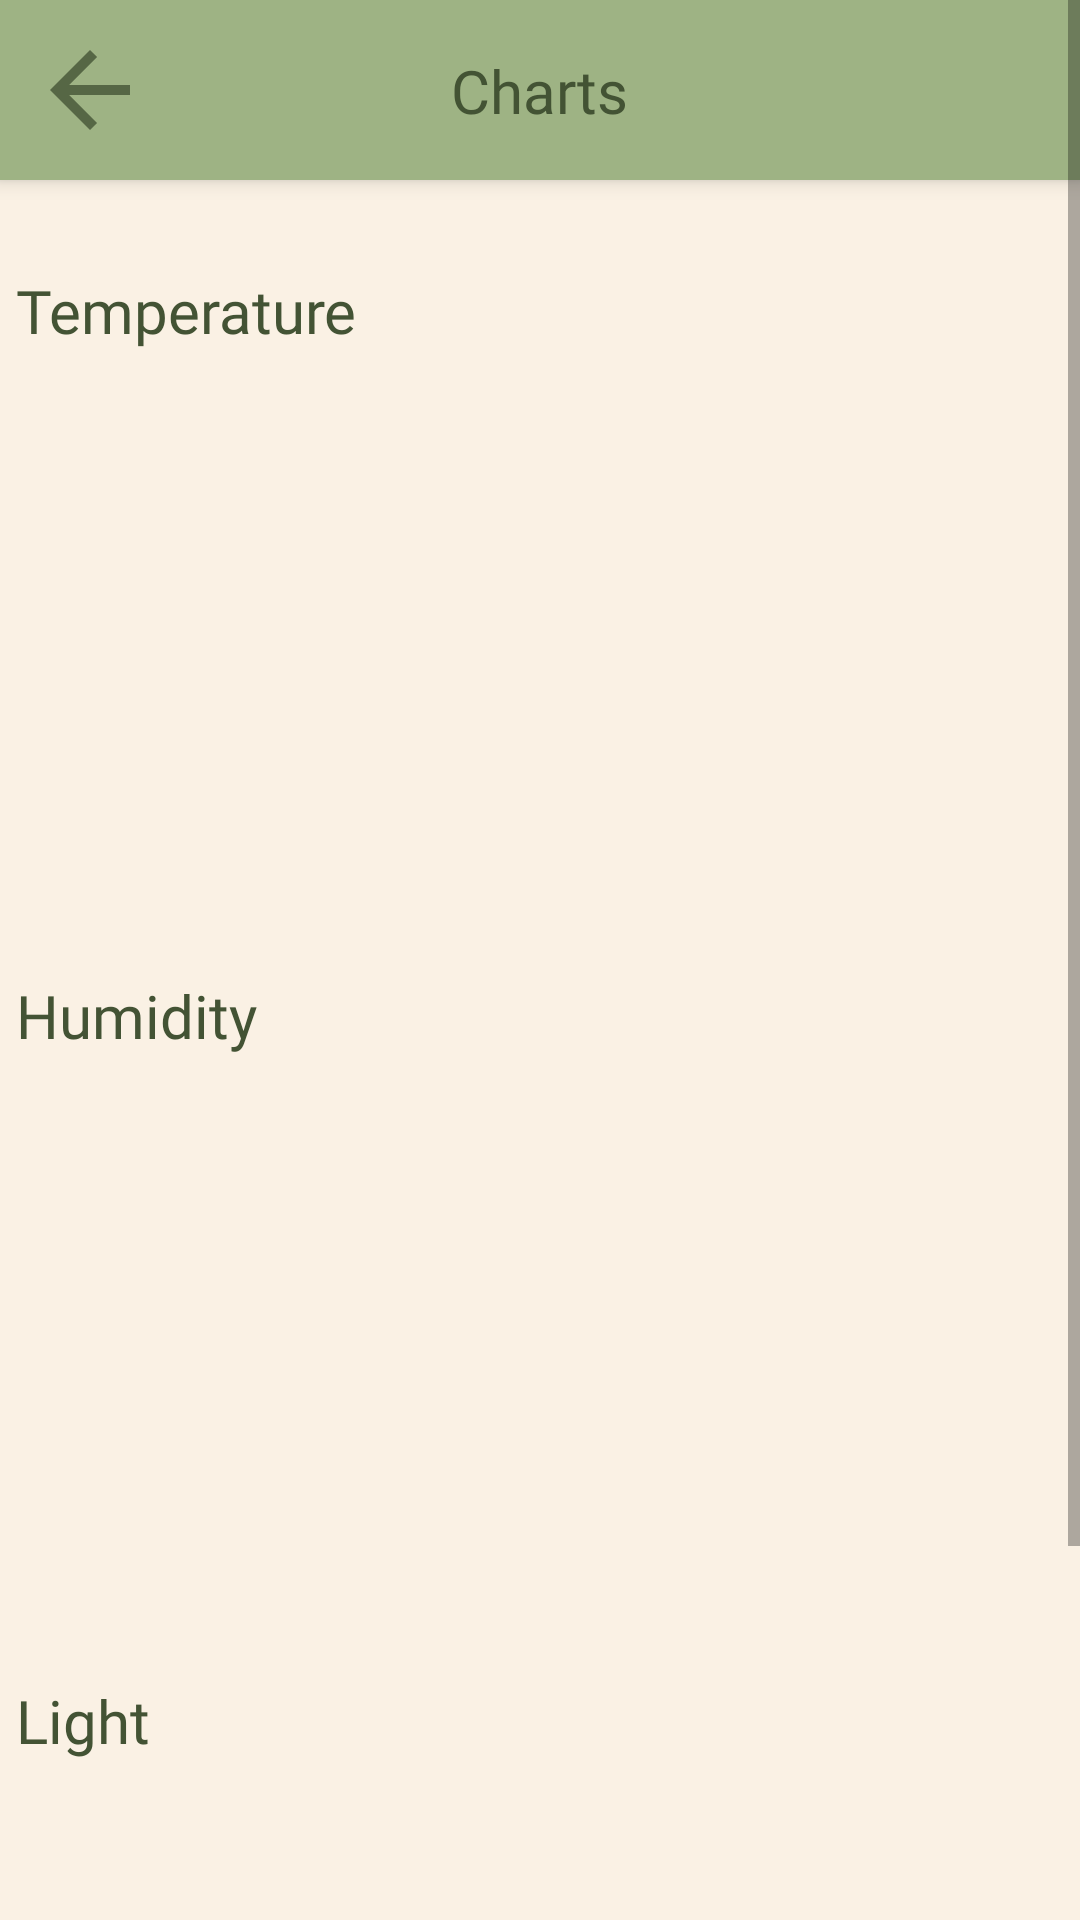

Point at icon controls on the screen. Image size 1080px×1920px, points as [x,y].
Back Button: [90,90]
